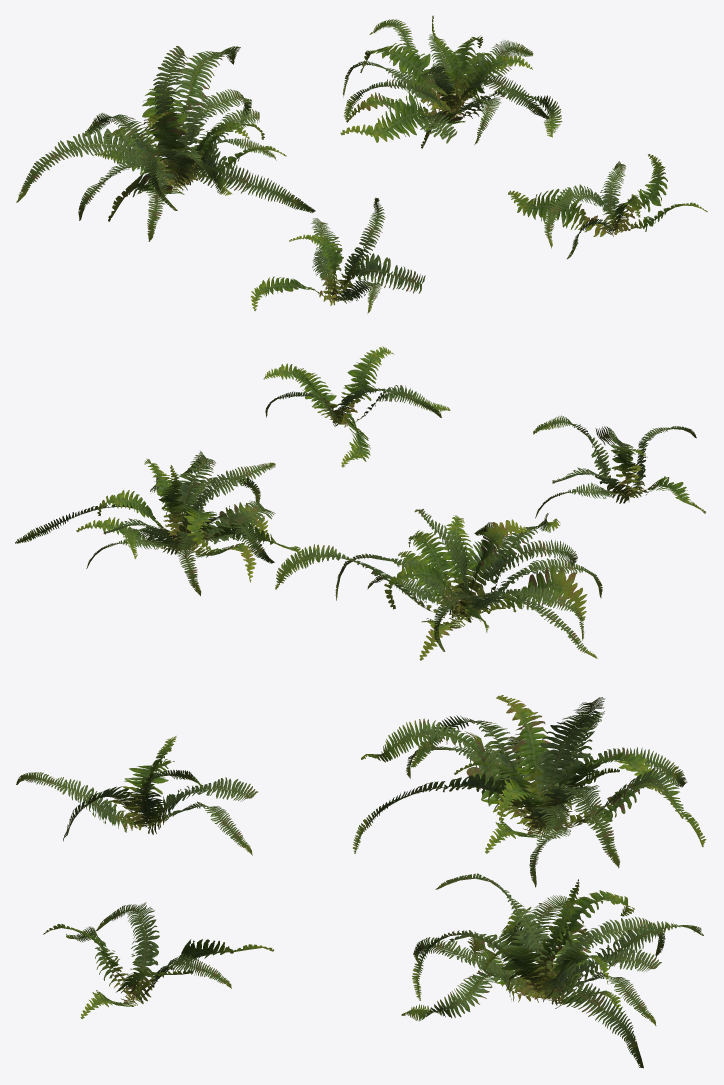
Rendered from arrival-fern.glb.
3 renders of one model, top to bottom at view 1: azimuth 30°, elevation 25°; view 2: azimuth 150°, elevation 25°; view 3: azimuth 270°, elevation 25°, orthographic. The views are drawn at different scales.
Size of the model in its own units: 1.97 by 0.4277 by 1.72.
Materials: 1 (1 with a texture image).
